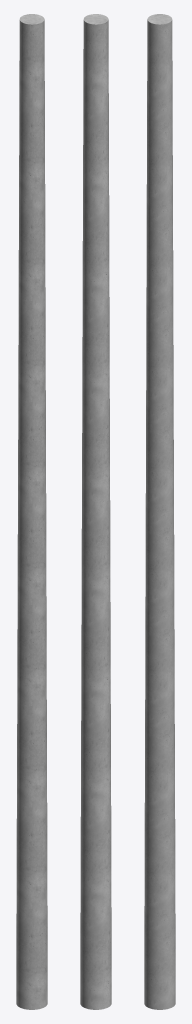
Rendered from denchu.fbx.
3 renders of one model, left to right at view 1: azimuth 90°, elevation 25°; view 2: azimuth 150°, elevation 25°; view 3: azimuth 270°, elevation 25°, orthographic.
Visible parts, largest first — view 1: Empty_Mesh; view 2: Empty_Mesh; view 3: Empty_Mesh.
Boxes of the visible parts, x1,y1,x2,y2 form: Empty_Mesh: (16,14,47,1009); Empty_Mesh: (80,14,111,1009); Empty_Mesh: (144,14,175,1009).
Size of the model in its own units: 0.3493 by 11.99 by 0.3493.
